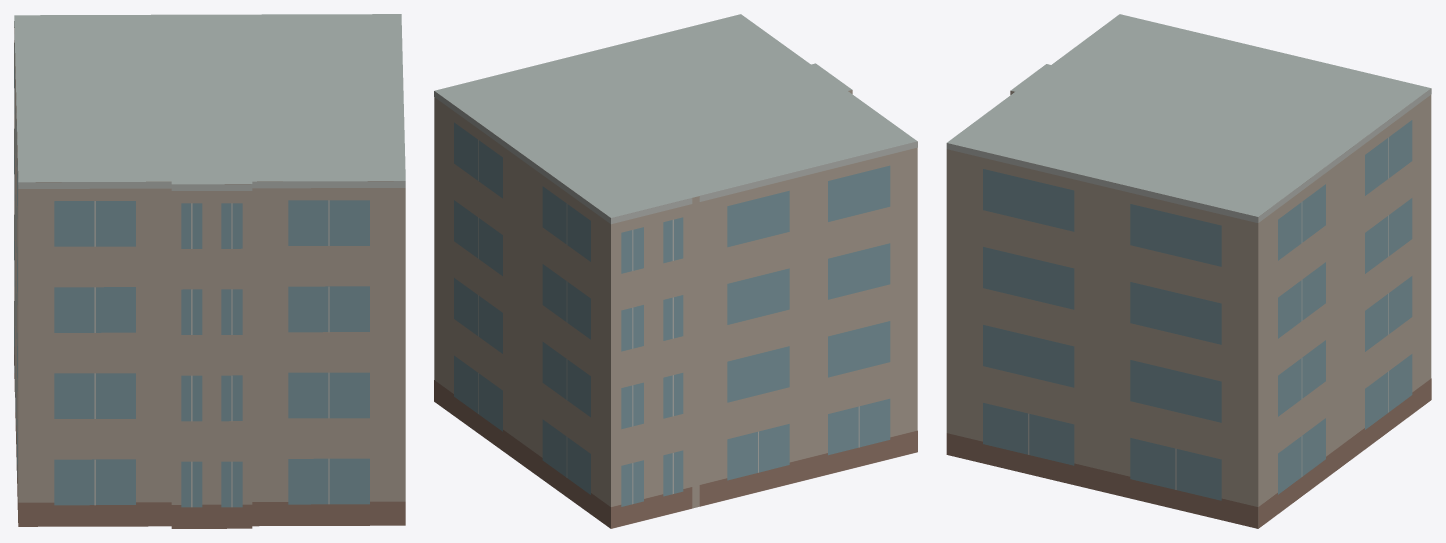
Rendered from survey-upis-32706586.glb.
3 views of the same model, side by side, from view 1: azimuth 30°, elevation 25°; view 2: azimuth 150°, elevation 25°; view 3: azimuth 270°, elevation 25° (orthographic). The views are drawn at different scales.
Visible parts, largest first — view 1: survey-upis-32706586.tmp; view 2: survey-upis-32706586.tmp; view 3: survey-upis-32706586.tmp.
Part boxes in pixels (box(x1,y1,x2,y2)): survey-upis-32706586.tmp: box(14, 14, 405, 528); survey-upis-32706586.tmp: box(434, 14, 917, 528); survey-upis-32706586.tmp: box(946, 14, 1431, 528).
Bounding box in the file's own units: 17.11 × 12.25 × 17.27.
